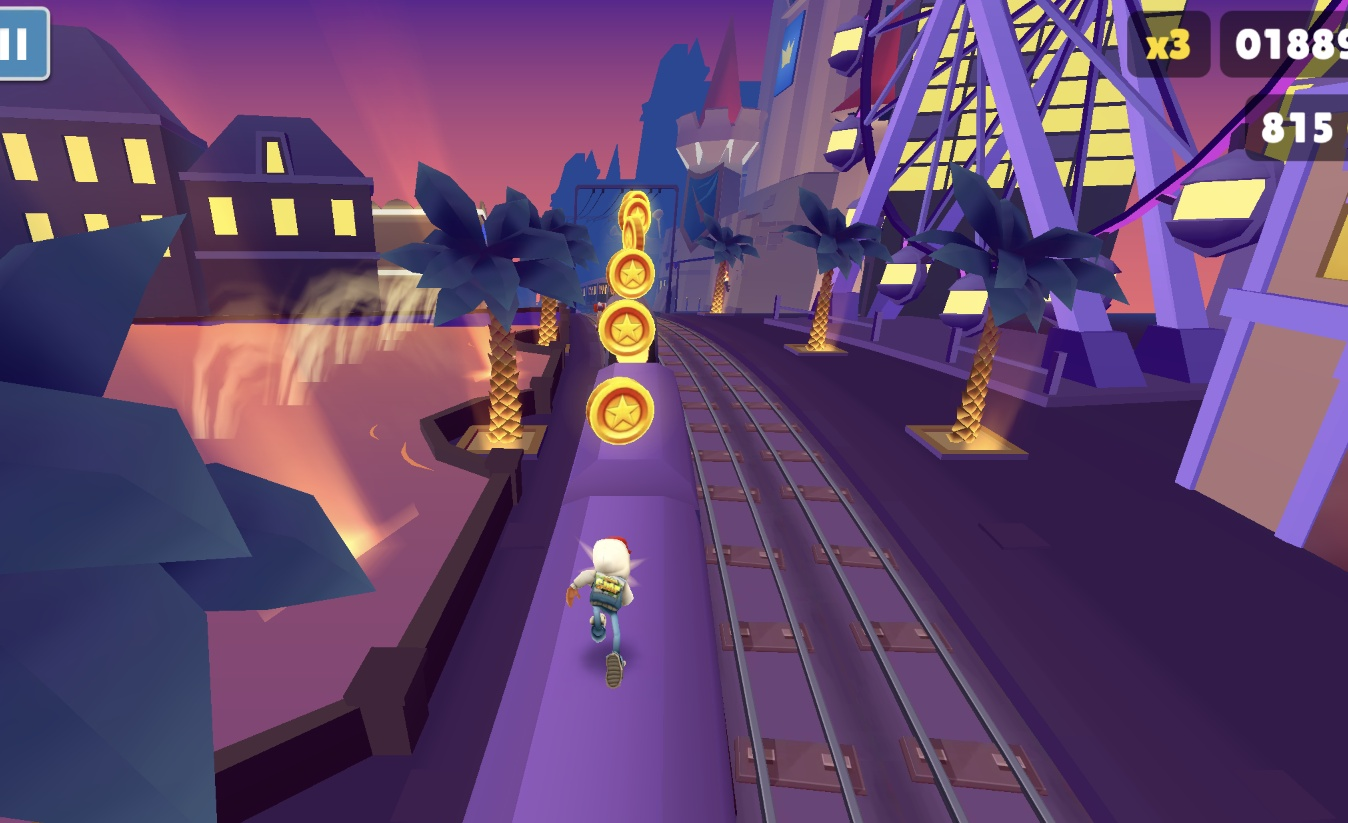ground_barrier: (588, 301, 611, 315)
train: (460, 360, 738, 823), (594, 304, 659, 365)
